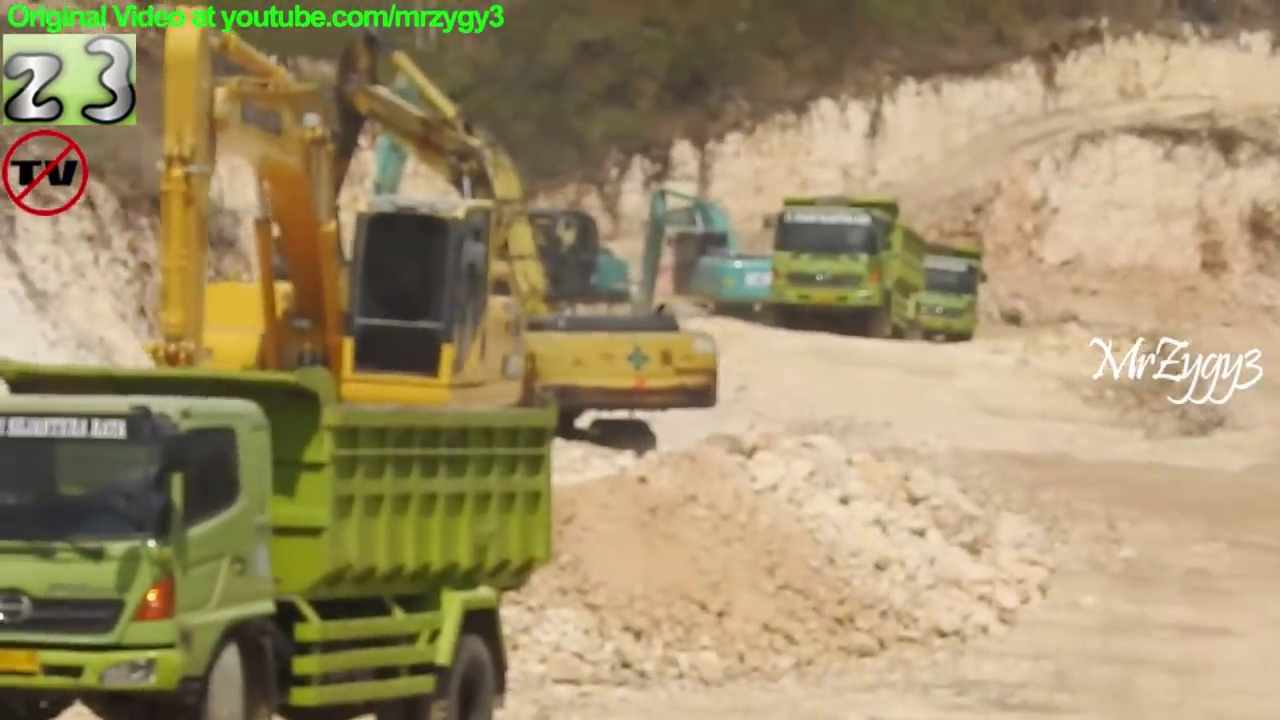excavator: (77, 3, 558, 509), (264, 31, 720, 478), (341, 55, 633, 347), (623, 185, 785, 337)
truck: (1, 355, 564, 720), (761, 193, 929, 347), (865, 234, 992, 350)
